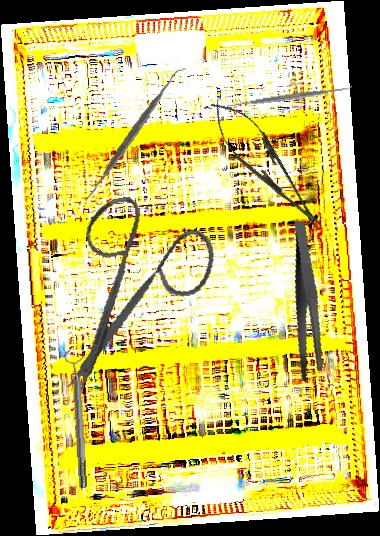Dressing Forceps: (265, 220, 349, 385)
Fixation Ring: (63, 349, 94, 489)
Iris Scissors: (34, 183, 235, 400)
Needle Holder: (198, 89, 336, 243)
Spatula Surgical: (70, 68, 197, 199), (223, 81, 354, 114)
